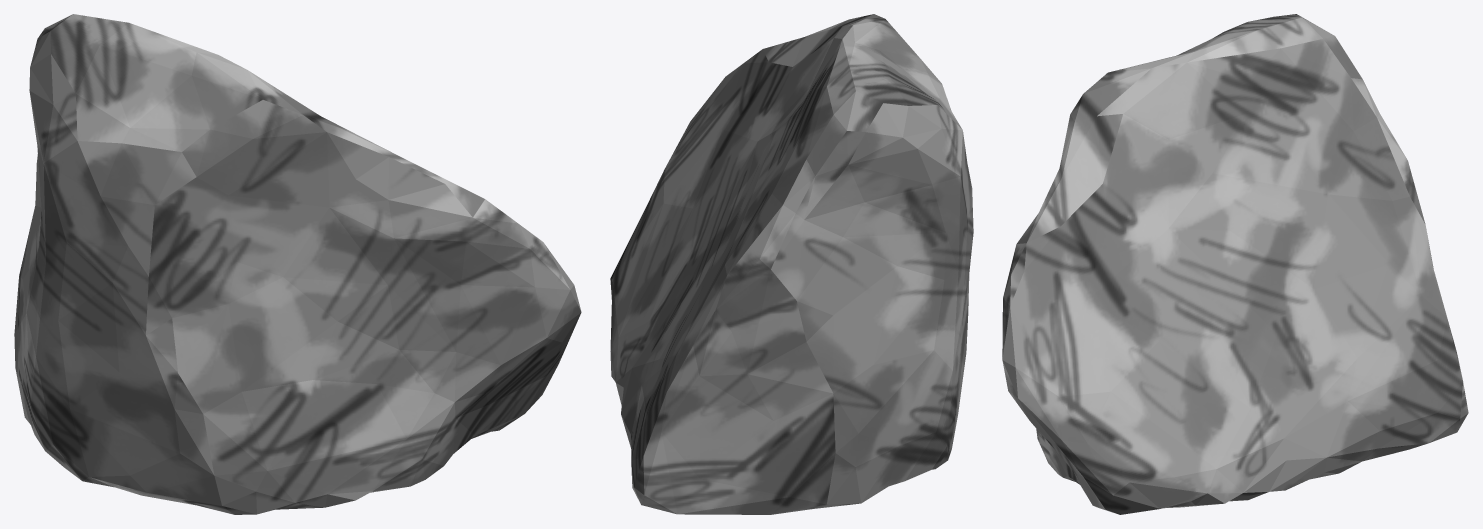
The model's file is rock3.FBX.
3 renders of one model, left to right at view 1: azimuth 30°, elevation 25°; view 2: azimuth 150°, elevation 25°; view 3: azimuth 270°, elevation 25°, orthographic. The views are drawn at different scales.
Visible parts, largest first — view 1: rock1; view 2: rock1; view 3: rock1.
Boxes of the visible parts, x1,y1,x2,y2 form: rock1: (14, 14, 581, 514); rock1: (610, 14, 973, 514); rock1: (1002, 14, 1468, 514).
Bounding box in the file's own units: 2.95 × 2.74 × 3.1.
1 material, 1 textured.
